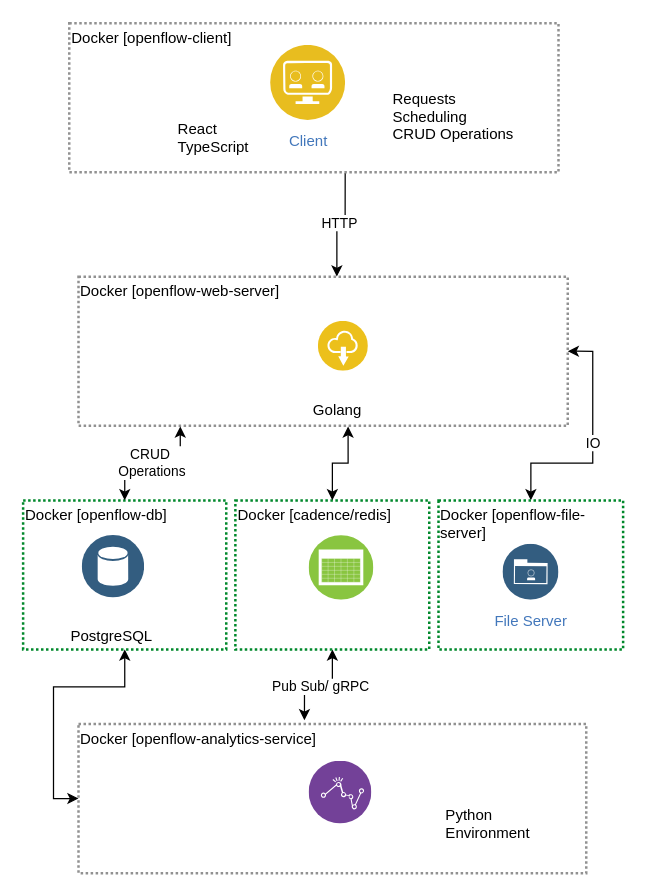
Image size: 645x895. Some labels were removed from this diagram. The centre of each missing label's shape, as x and y in pixels:
Core DB: the point at 113,566
Event Queues/ Dispatcher: the point at 341,567
Python Analytics Server: the point at 340,792
Web Server: the point at 343,346
